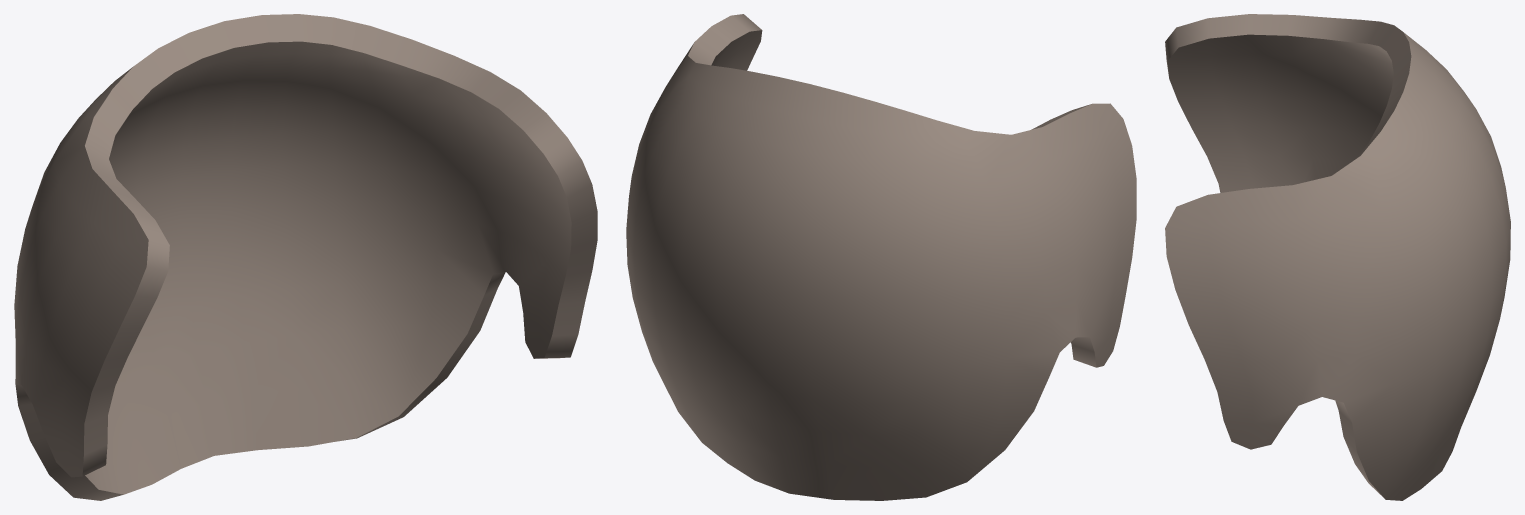
The picture shows the model from 3 angles, left to right: view 1: azimuth 30°, elevation 25°; view 2: azimuth 150°, elevation 25°; view 3: azimuth 270°, elevation 25°; orthographic projection. The views are drawn at different scales.
Parts seen in each view (by area): view 1: hair_balding; view 2: hair_balding; view 3: hair_balding.
Part boxes in pixels (x1,y1,x2,y2): hair_balding: (14,14,597,500); hair_balding: (626,14,1136,500); hair_balding: (1165,14,1510,500).
Bounding box in the file's own units: 2.01 × 1.7 × 1.35.
